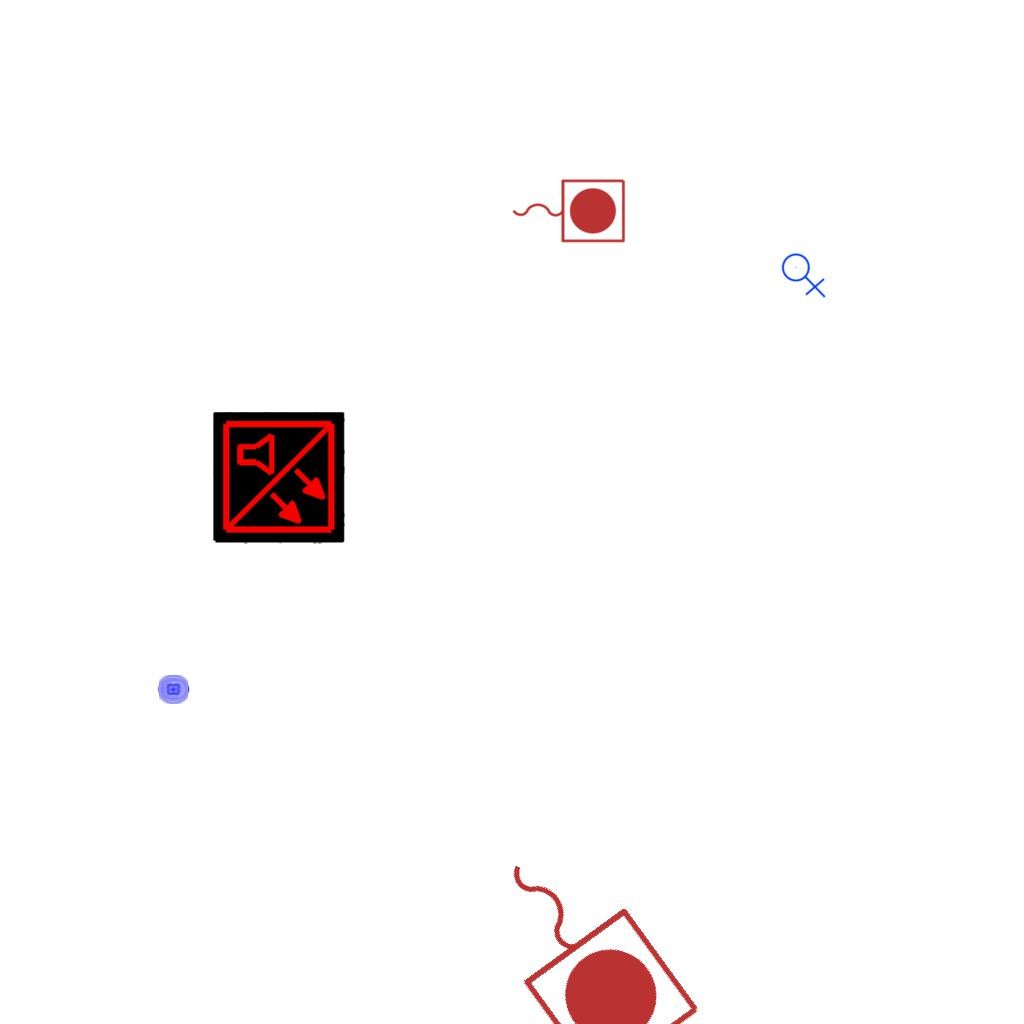Elektroanschluss_allgemein_230V_Geraeteanschlussdose_230V: (781, 249, 828, 298)
OKW_Multisensormelder_(Kombination_optischer_Rauch-Kahlenmonoxid_Waerme-Melder): (213, 412, 345, 544)
Taster_beleuchtet: (157, 673, 190, 706)
Zugtaster: (453, 812, 713, 1024), (507, 174, 629, 246)
